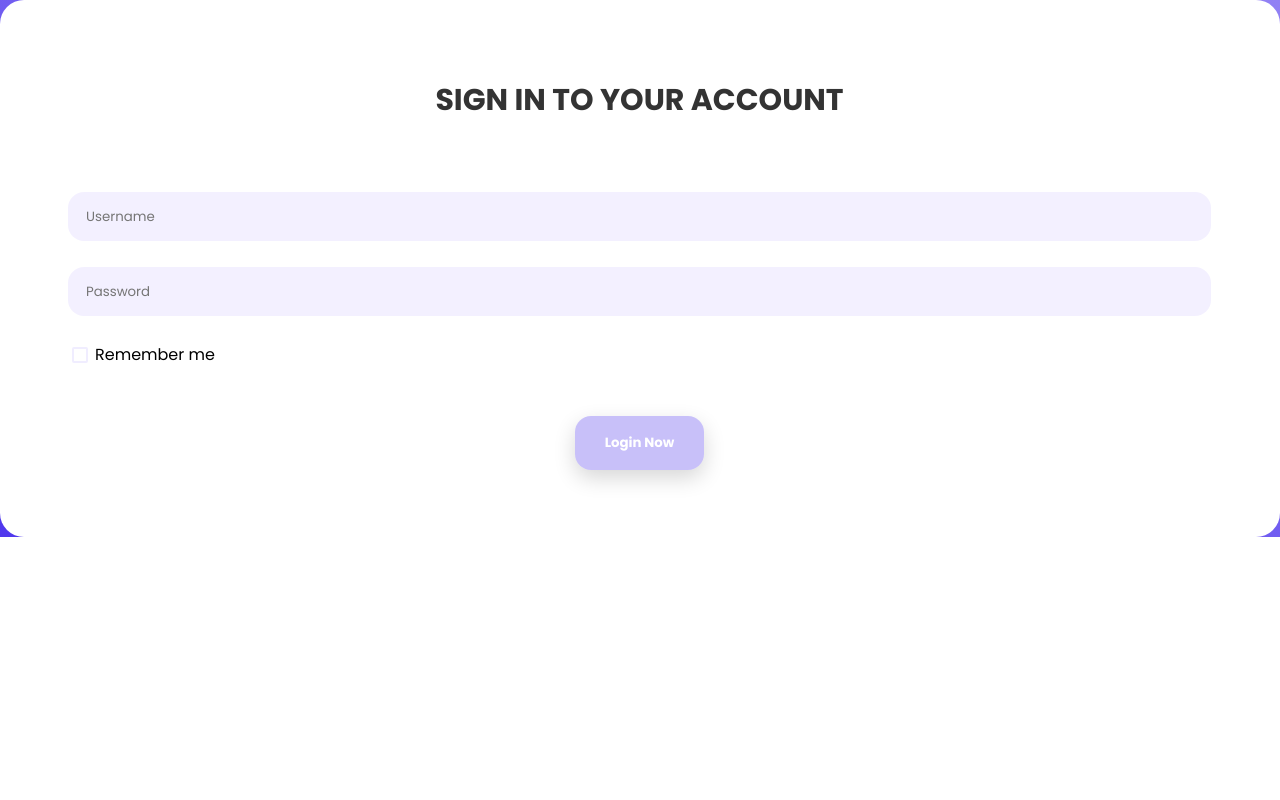
Test: SignInToast › email validation › when email is invalid › displays an error message
In the field with placeholder "Username": (640, 216) [68,192,1211,241], type "invalid-email"
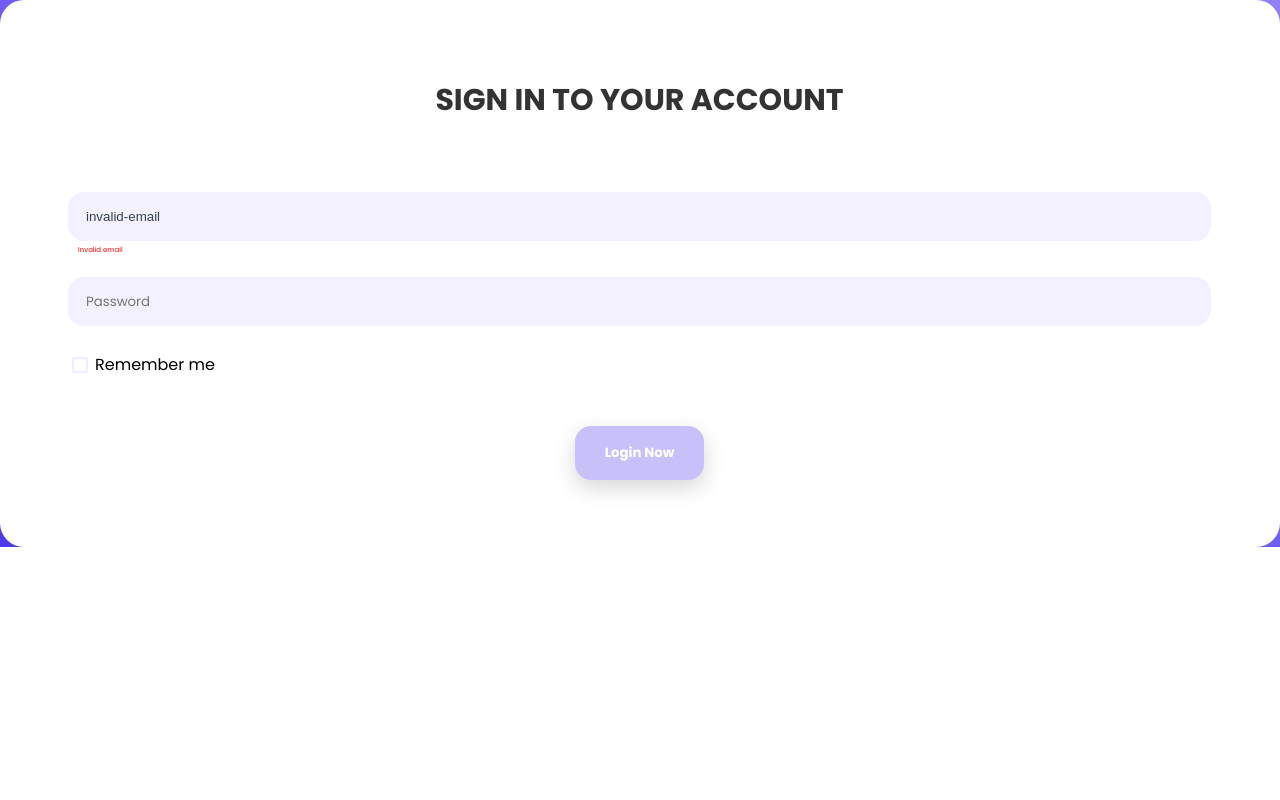
Expected: the text "Invalid email" is shown, [78,245,123,254]
